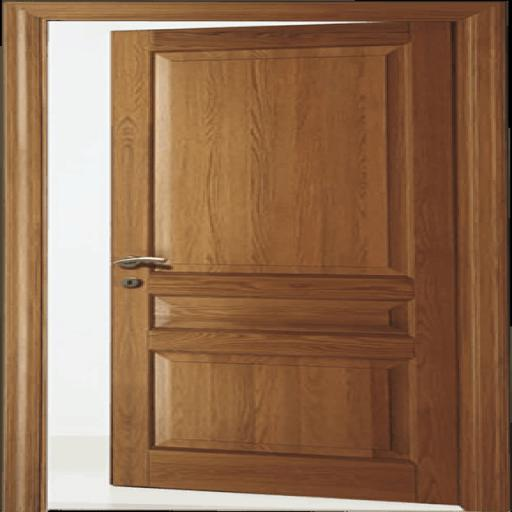Door: (108, 20, 460, 506)
